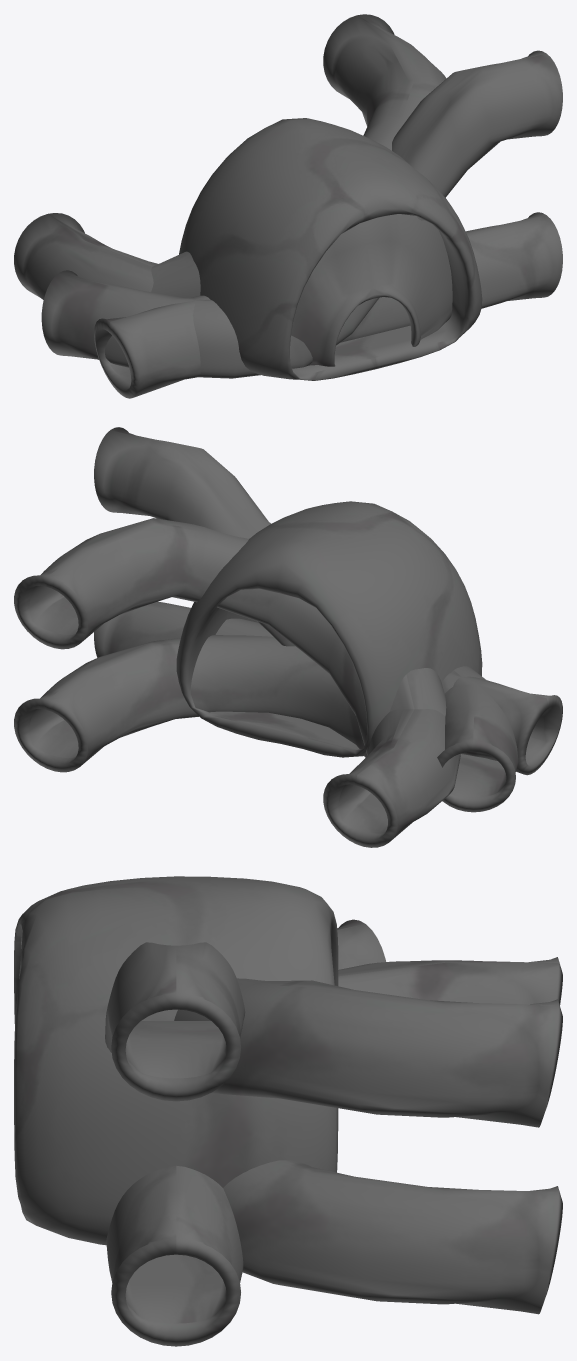
Rendered from CavesPack.fbx.
The picture shows the model from 3 angles, top to bottom: view 1: azimuth 30°, elevation 25°; view 2: azimuth 150°, elevation 25°; view 3: azimuth 270°, elevation 25°; orthographic projection. The views are drawn at different scales.
Parts seen in each view (by area): view 1: CaveSegment, CaveSpiral, CaveCorridor, CaveEntrance, CaveSpiralCurve, CaveCurve; view 2: CaveCurve, CaveSegment, CaveSpiralCurve, CaveSpiral, CaveCorridor; view 3: CaveSegment, CaveCurve, CaveSpiralCurve, CaveCorridor, CaveSpiral.
Part boxes in pixels (<box>): CaveSegment: <box>179,118,482,380</box>; CaveSpiral: <box>41,50,562,378</box>; CaveCorridor: <box>94,212,562,398</box>; CaveEntrance: <box>291,214,452,366</box>; CaveSpiralCurve: <box>151,14,446,298</box>; CaveCurve: <box>14,213,157,299</box>; CaveCurve: <box>14,635,460,847</box>; CaveSegment: <box>176,501,482,757</box>; CaveSpiralCurve: <box>14,518,446,755</box>; CaveSpiral: <box>94,427,518,812</box>; CaveCorridor: <box>94,601,562,775</box>; CaveSegment: <box>14,876,338,1245</box>; CaveCurve: <box>223,957,562,1314</box>; CaveSpiralCurve: <box>174,978,562,1127</box>; CaveCorridor: <box>106,1165,243,1346</box>; CaveSpiral: <box>105,919,385,1101</box>.
Bounding box in the file's own units: 11919 × 5942 × 8168.
